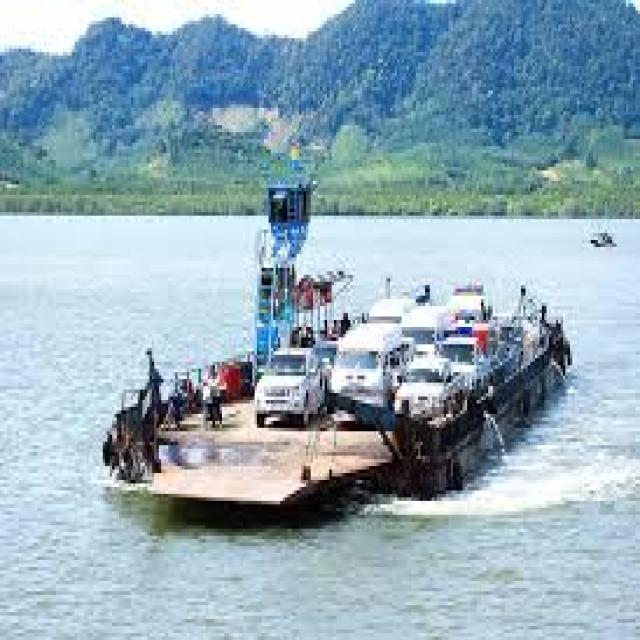cargoship: (118, 194, 562, 517)
